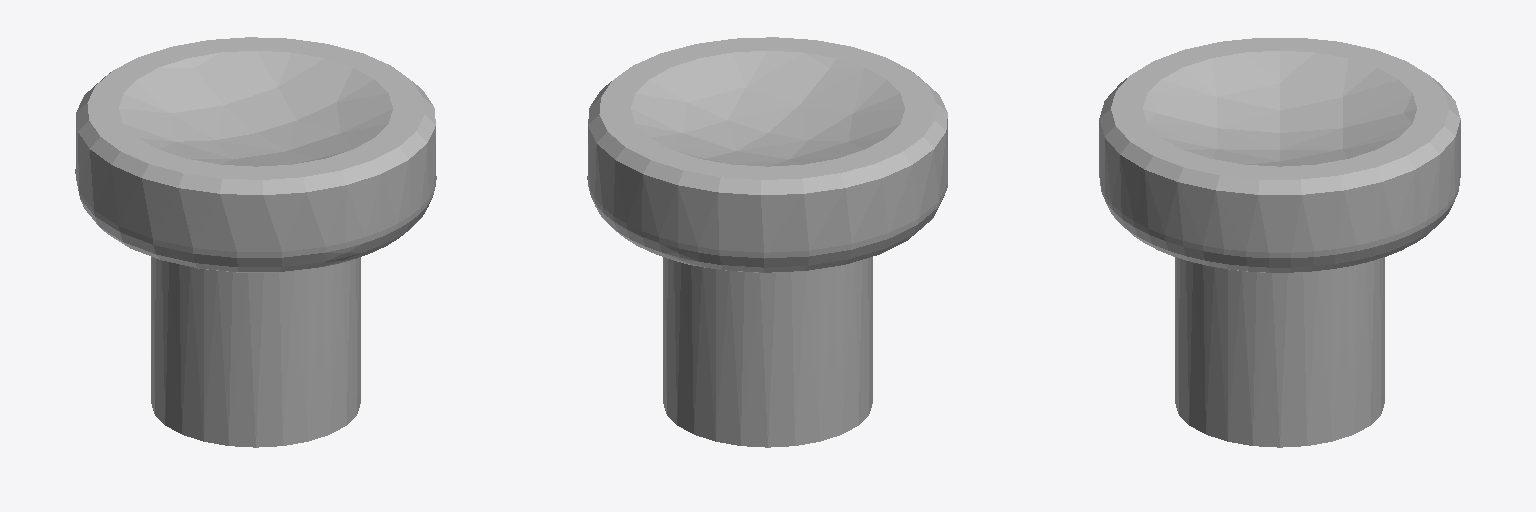
3 renders of one model, left to right at view 1: azimuth 30°, elevation 25°; view 2: azimuth 150°, elevation 25°; view 3: azimuth 270°, elevation 25°, orthographic.
Visible parts, largest first — view 1: gn_676_5-25-m8-b_1; view 2: gn_676_5-25-m8-b_1; view 3: gn_676_5-25-m8-b_1.
Part boxes in pixels (bbox=[...]): gn_676_5-25-m8-b_1: bbox=[75, 37, 436, 447]; gn_676_5-25-m8-b_1: bbox=[587, 37, 947, 447]; gn_676_5-25-m8-b_1: bbox=[1099, 38, 1460, 447].
Bounding box in the file's own units: 24.95 × 22.5 × 25.